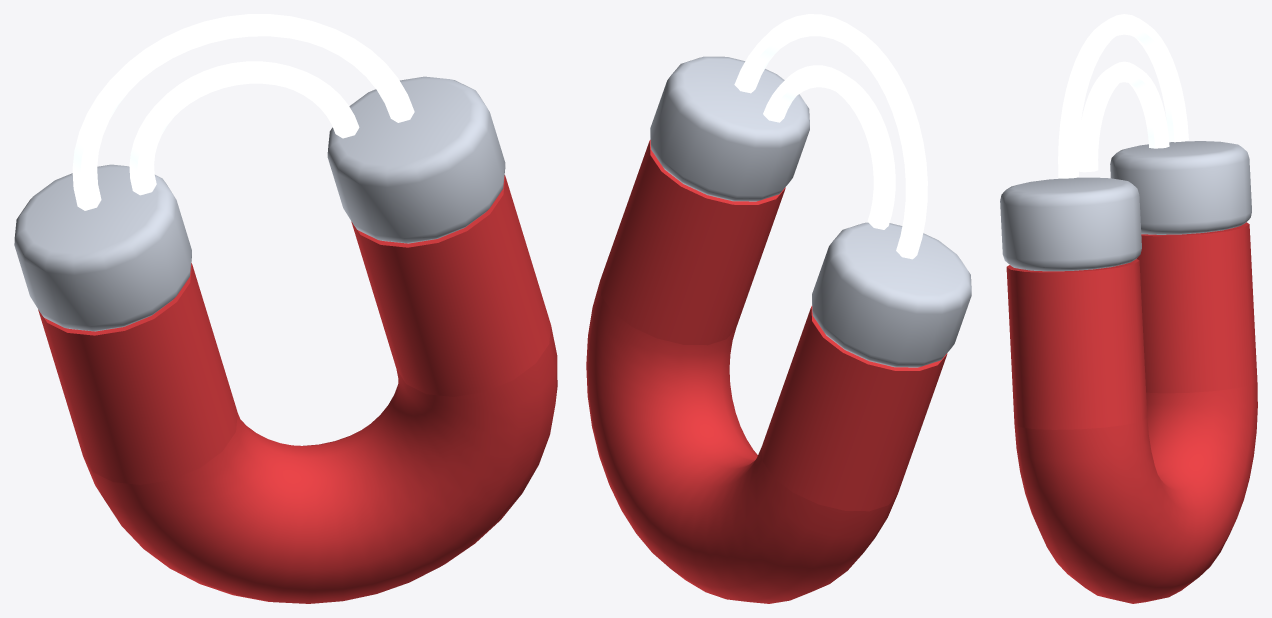
The model's file is Magnet.fbx.
3 views of the same model, side by side, from view 1: azimuth 30°, elevation 25°; view 2: azimuth 150°, elevation 25°; view 3: azimuth 270°, elevation 25° (orthographic). The views are drawn at different scales.
Parts seen in each view (by area): view 1: Magnet_Body, Magnet_Trim, Magnet_Neon; view 2: Magnet_Body, Magnet_Trim, Magnet_Neon; view 3: Magnet_Body, Magnet_Trim, Magnet_Neon.
Boxes of the visible parts, x1=… form: Magnet_Body: x1=38, y1=175, x2=557, y2=603; Magnet_Trim: x1=14, y1=76, x2=505, y2=331; Magnet_Neon: x1=72, y1=14, x2=414, y2=210; Magnet_Body: x1=586, y1=140, x2=947, y2=603; Magnet_Trim: x1=650, y1=56, x2=971, y2=367; Magnet_Neon: x1=734, y1=14, x2=927, y2=259; Magnet_Body: x1=1006, y1=222, x2=1257, y2=603; Magnet_Trim: x1=1000, y1=141, x2=1251, y2=271; Magnet_Neon: x1=1058, y1=14, x2=1188, y2=178.
Size of the model in its own units: 2.32 by 3 by 1.34.
